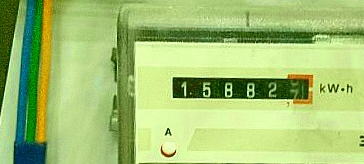1: (178, 78, 188, 96)
2: (266, 79, 277, 97)
5: (200, 80, 211, 97)
7: (288, 87, 299, 98)
8: (221, 79, 233, 97), (244, 79, 255, 98)
screen: (162, 64, 319, 111)
